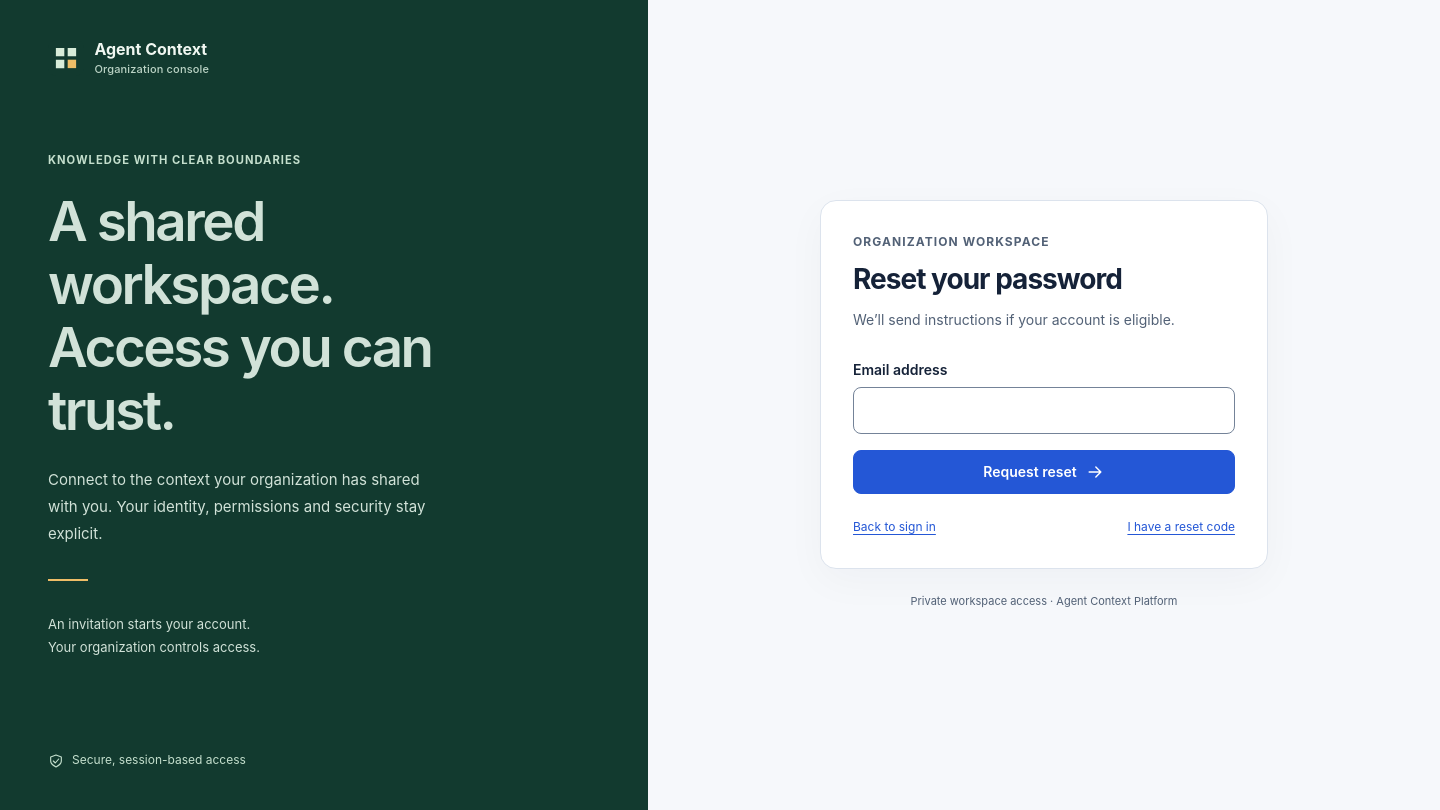
Scenario: session-only authentication › does not replay a mutation after a CSRF failure
The width and height of the screenshot is (1440, 810).
In the field labelled "Email address": (1044, 410) [853,388,1235,434], type "unknown@example.test"
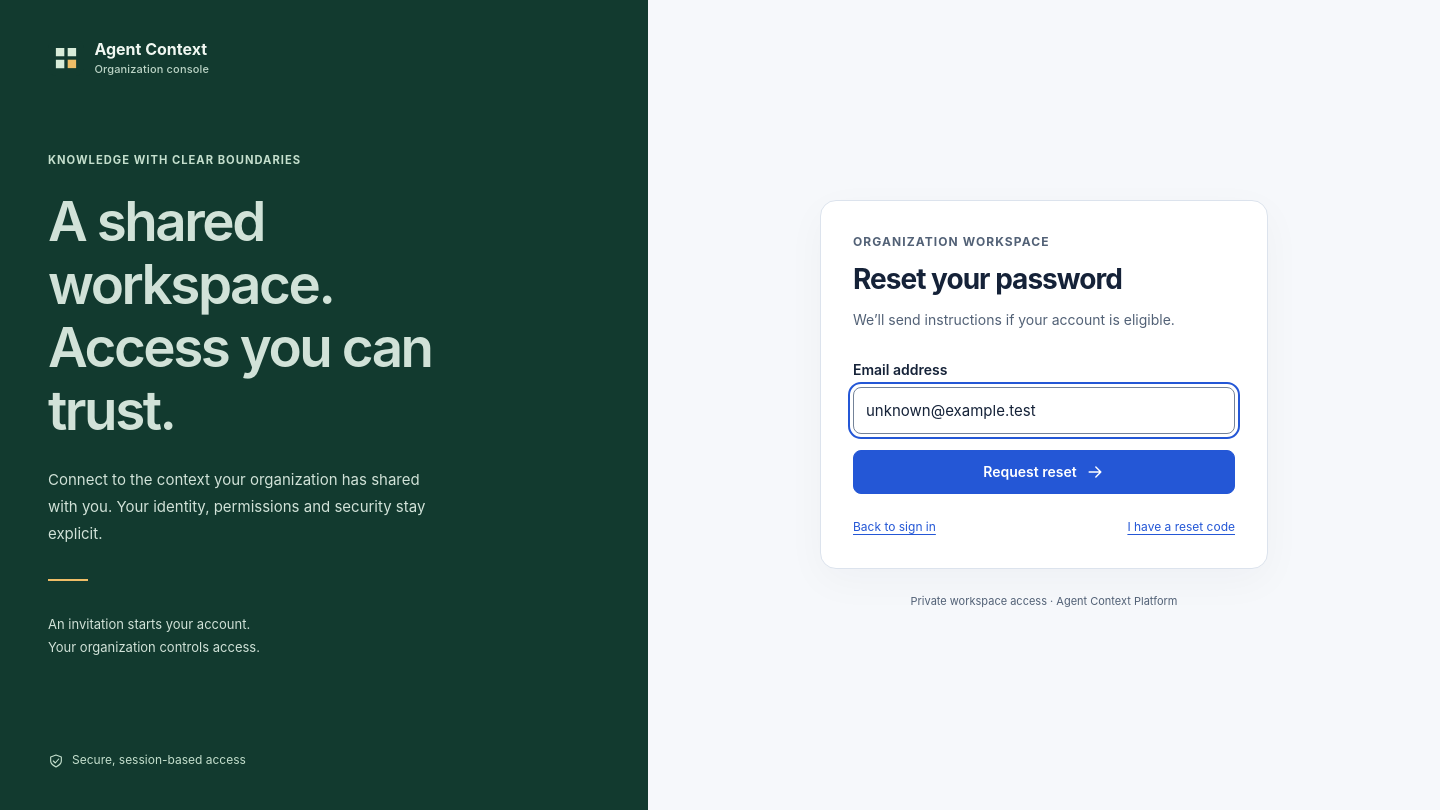
Click the button "Request reset": (1044, 472) [853,450,1235,494]
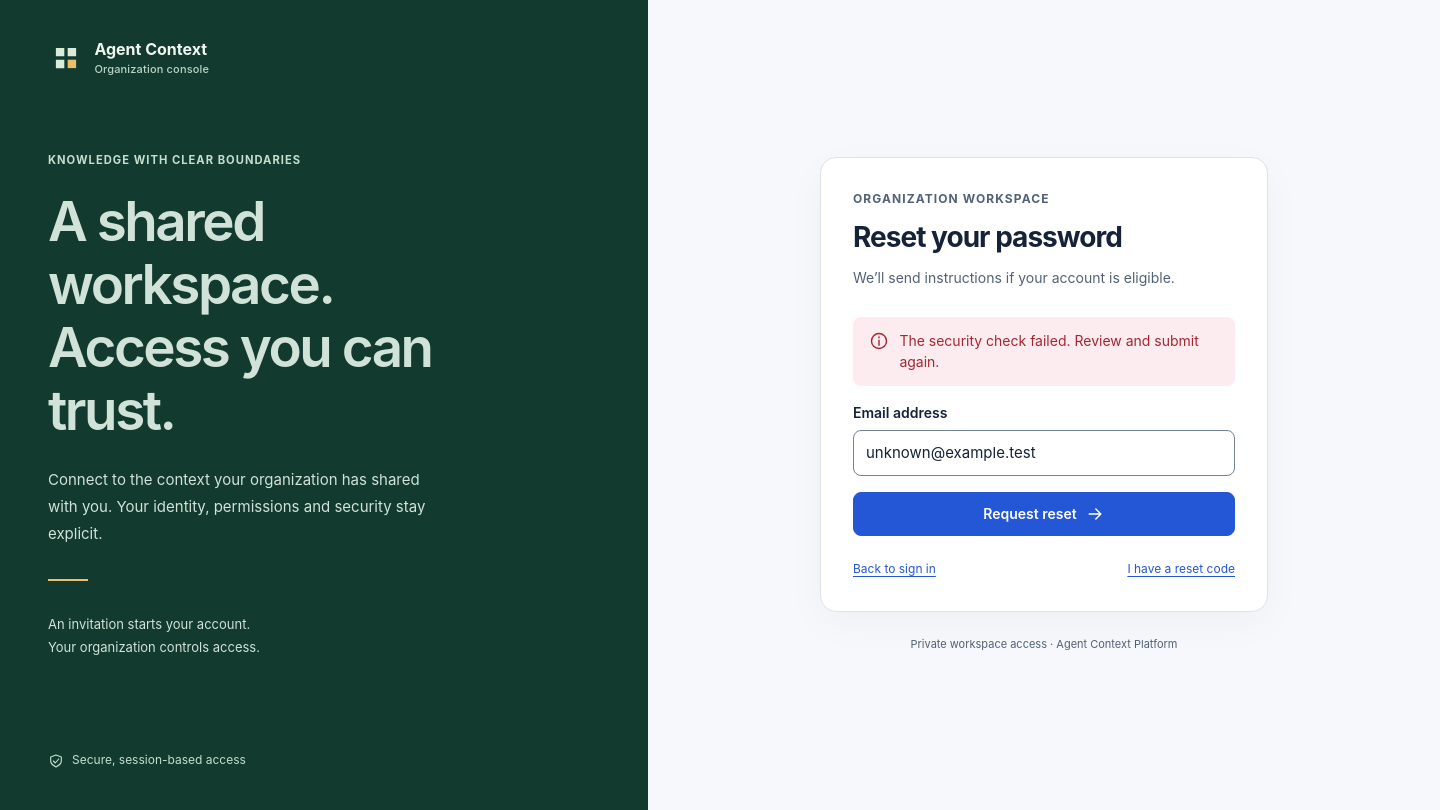
Expected: the text "The security check failed. Review and submit again." is shown, [899,330,1219,373]
